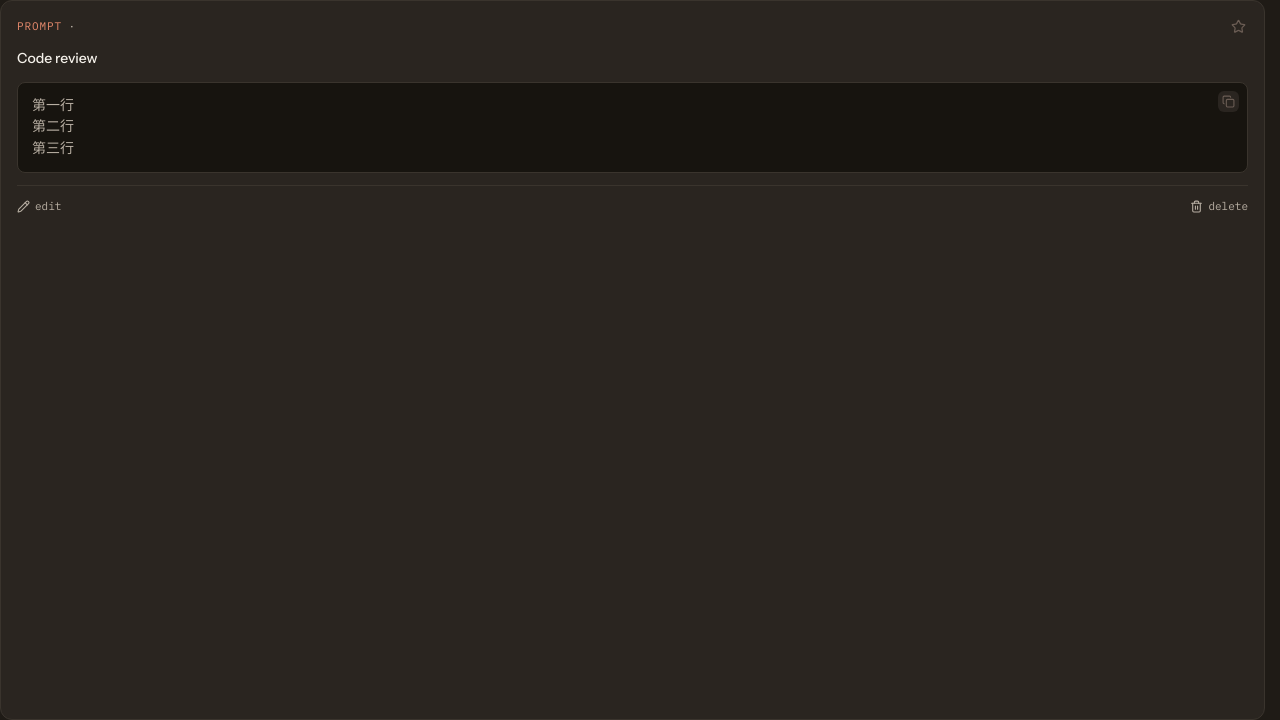
Test case: ItemCard › 右上角常驻复制按钮：点击写入剪贴板并反馈已复制
The image size is (1280, 720).
Click the button named "复制内容". click: click(1228, 101)
box: top-left (1218, 91), bottom-right (1239, 112)
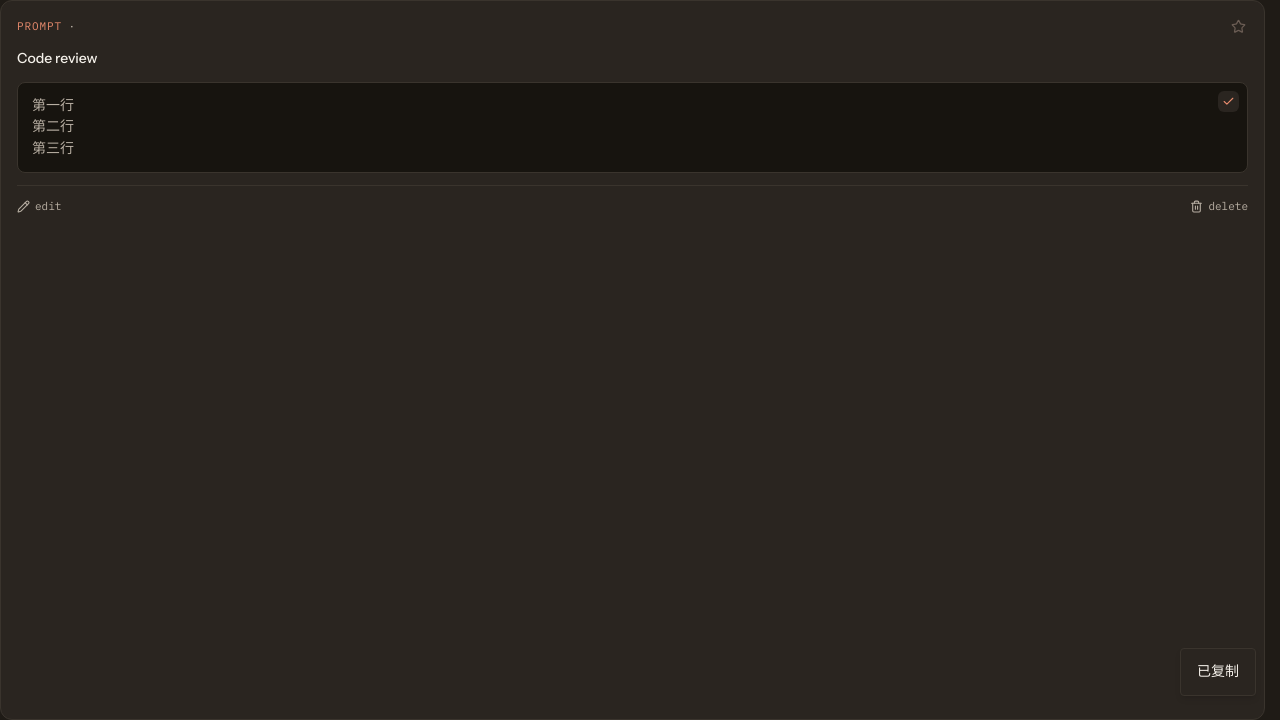
Now the button named "已复制" is shown, box top-left (1218, 91), bottom-right (1239, 112)
